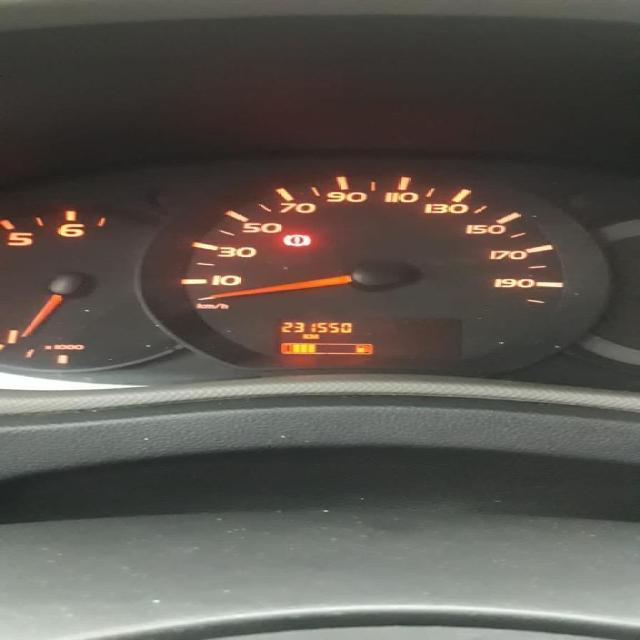odometer: (273, 314, 461, 364)
